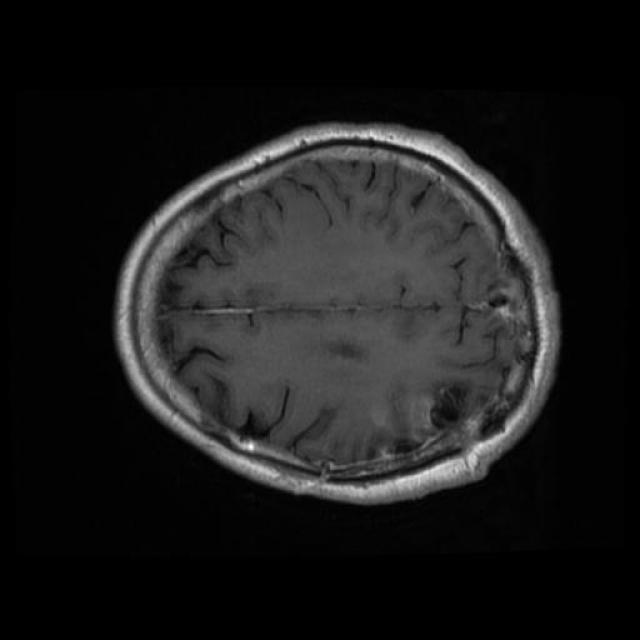Glioma: (431, 386, 508, 446), (468, 270, 529, 339)
